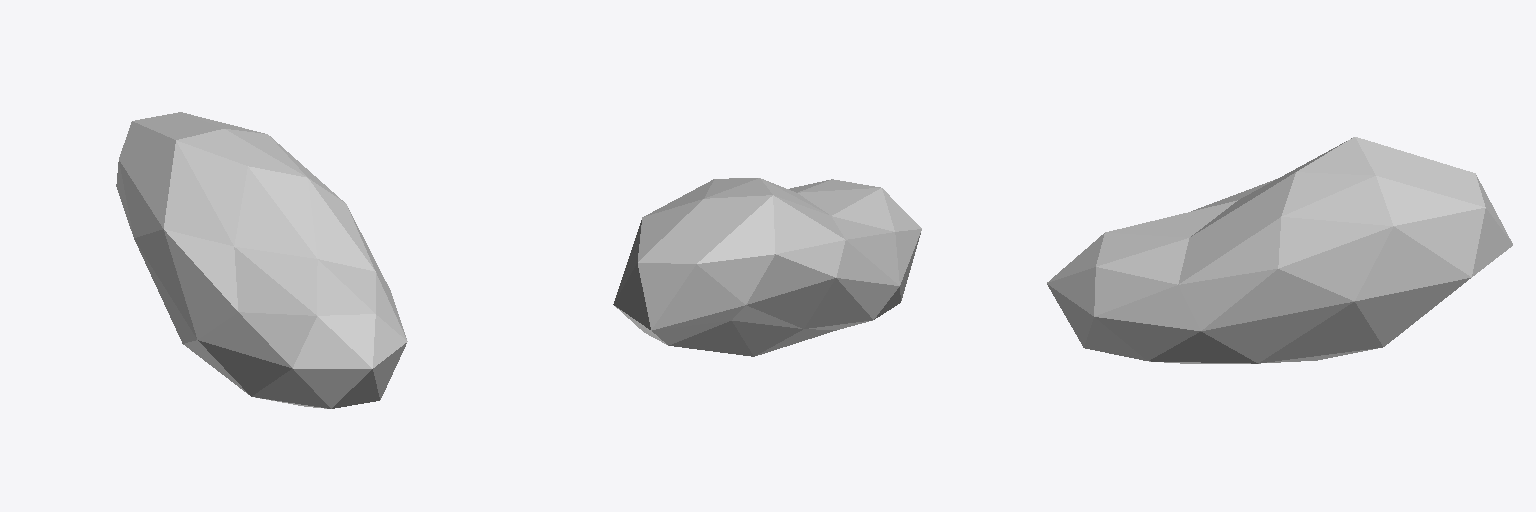
File: rock3.obj
The picture shows the model from 3 angles: view 1: azimuth 30°, elevation 25°; view 2: azimuth 150°, elevation 25°; view 3: azimuth 270°, elevation 25°; orthographic projection.
Visible parts, largest first — view 1: r5_Icosphere.001; view 2: r5_Icosphere.001; view 3: r5_Icosphere.001.
Boxes of the visible parts, x1=… form: r5_Icosphere.001: x1=116, y1=112, x2=407, y2=408; r5_Icosphere.001: x1=613, y1=178, x2=921, y2=356; r5_Icosphere.001: x1=1047, y1=137, x2=1512, y2=363.
Bounding box in the file's own units: 1.9 × 1.88 × 4.04.